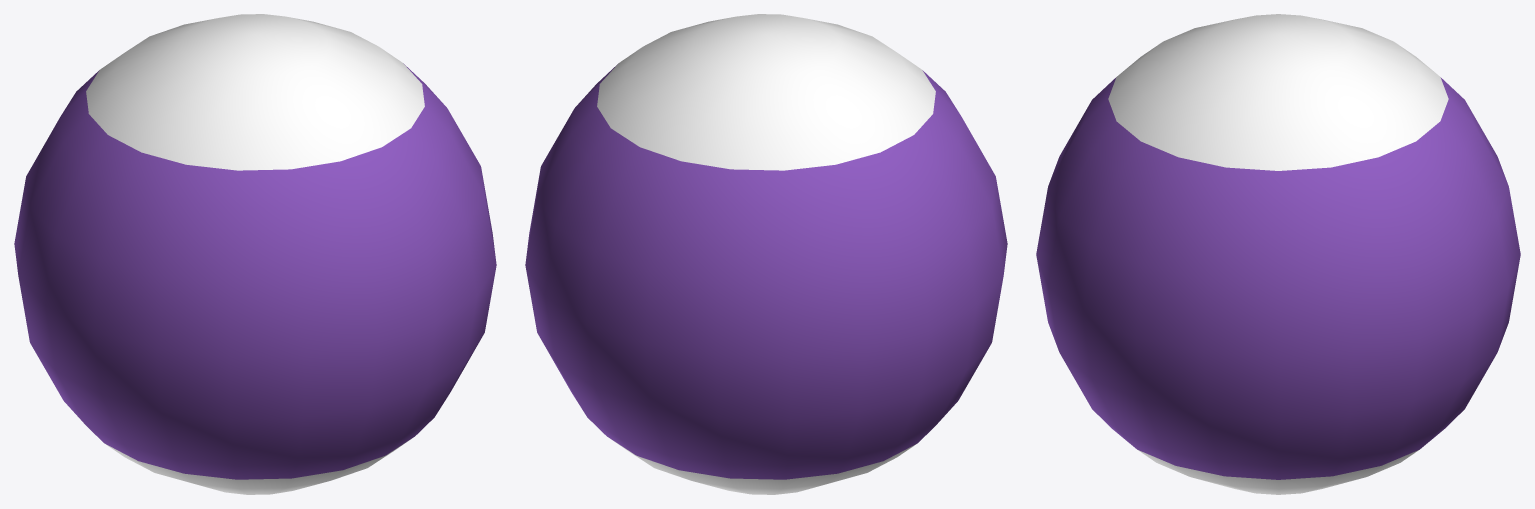
Rendered from Ball.fbx.
The picture shows the model from 3 angles, left to right: view 1: azimuth 30°, elevation 25°; view 2: azimuth 150°, elevation 25°; view 3: azimuth 270°, elevation 25°; orthographic projection.
Parts seen in each view (by area): view 1: Ball; view 2: Ball; view 3: Ball.
Boxes of the visible parts, bbox=[...] form: Ball: bbox=[14, 14, 496, 494]; Ball: bbox=[525, 14, 1007, 494]; Ball: bbox=[1036, 14, 1520, 494].
Bounding box in the file's own units: 10 × 10 × 10.
